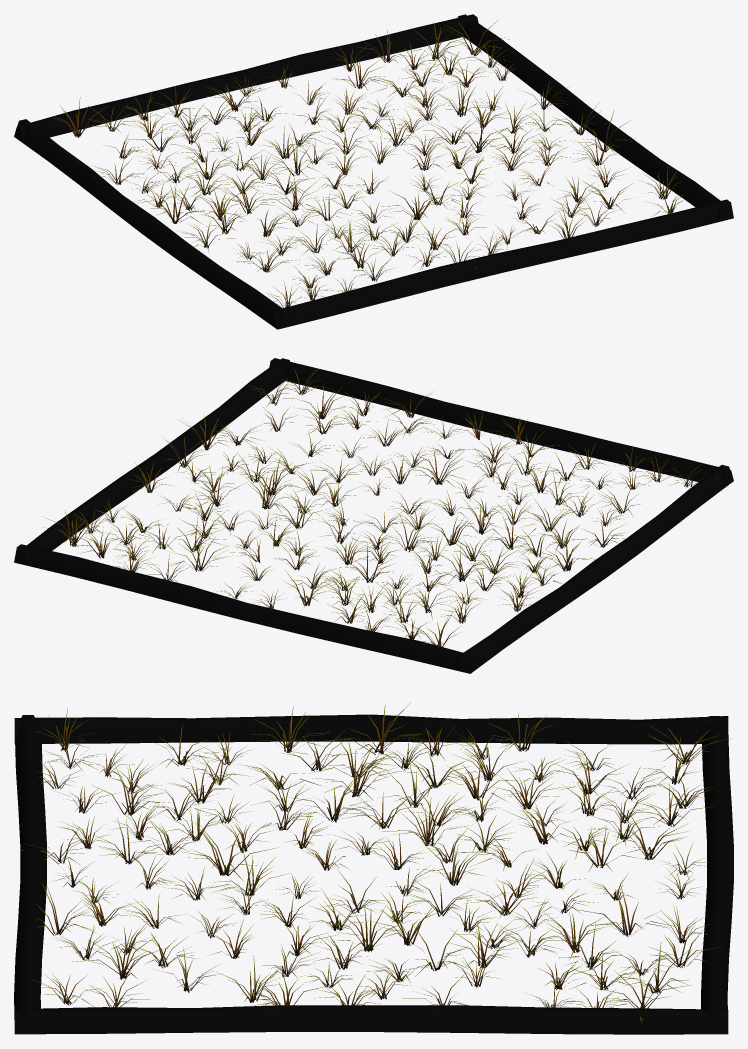
File: patch_paddy.glb
The picture shows the model from 3 angles, top to bottom: view 1: azimuth 30°, elevation 25°; view 2: azimuth 150°, elevation 25°; view 3: azimuth 270°, elevation 25°; orthographic projection. The views are drawn at different scales.
Parts seen in each view (by area): view 1: patch_paddy; view 2: patch_paddy; view 3: patch_paddy.
Part boxes in pixels (<box>): patch_paddy: <box>14,14,733,329</box>; patch_paddy: <box>14,358,733,673</box>; patch_paddy: <box>14,703,733,1034</box>.
Size of the model in its own units: 12.21 by 0.8444 by 12.11.
1 material, 1 textured.
